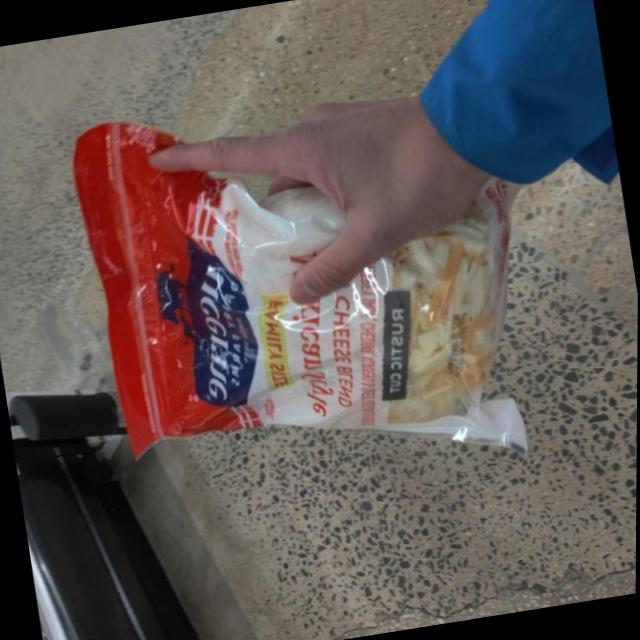Cheese: (48, 59, 551, 542)
